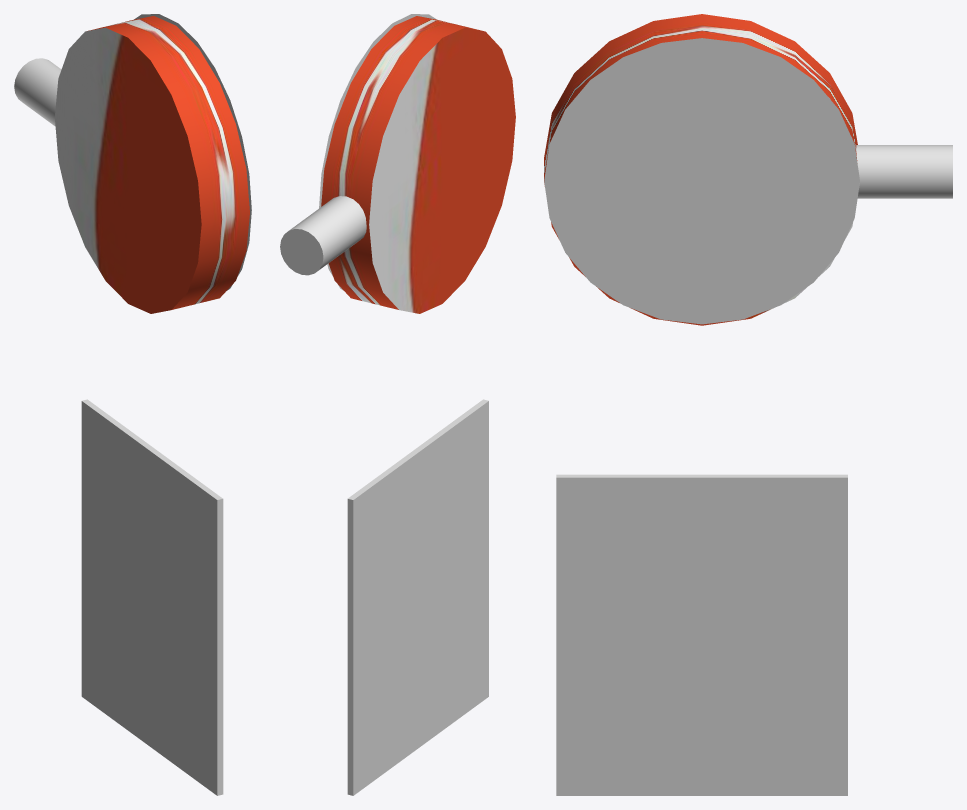
Rendered from glass.fbx.
3 views of the same model, side by side, from view 1: azimuth 30°, elevation 25°; view 2: azimuth 150°, elevation 25°; view 3: azimuth 270°, elevation 25° (orthographic). The views are drawn at different scales.
Visible parts, largest first — view 1: pCylinder1, pCube1, pCylinder2, pDisc1; view 2: pCube1, pCylinder1, pCylinder2, pDisc1; view 3: pCube1, pDisc1, pCylinder1, pCylinder2.
Boxes of the visible parts, x1=… form: pCylinder1: x1=54, y1=16, x2=249, y2=313; pCube1: x1=81, y1=399, x2=223, y2=795; pCylinder2: x1=14, y1=58, x2=61, y2=126; pDisc1: x1=134, y1=14, x2=251, y2=290; pCube1: x1=347, y1=399, x2=488, y2=795; pCylinder1: x1=321, y1=16, x2=515, y2=313; pCylinder2: x1=280, y1=196, x2=366, y2=275; pDisc1: x1=319, y1=14, x2=436, y2=290; pCube1: x1=556, y1=474, x2=847, y2=795; pDisc1: x1=544, y1=38, x2=859, y2=324; pCylinder1: x1=544, y1=14, x2=859, y2=325; pCylinder2: x1=856, y1=145, x2=952, y2=198.
Bounding box in the file's own units: 0.3947 × 5.38 × 2.59.
